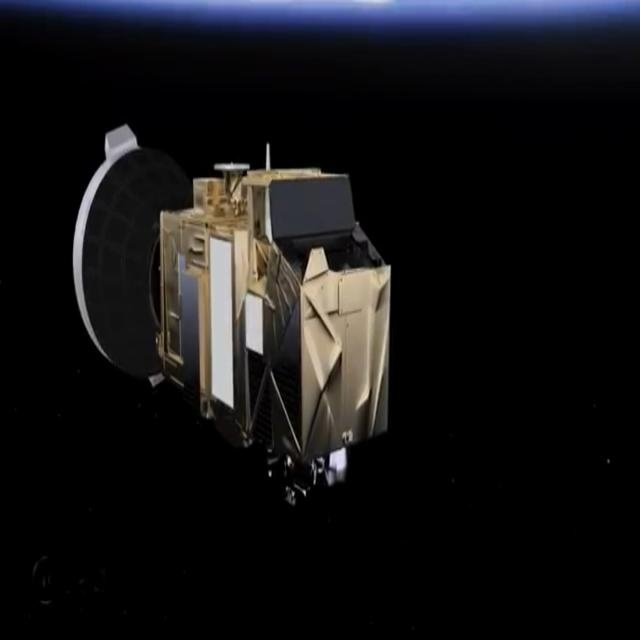medium_debris: (66, 110, 395, 515)
